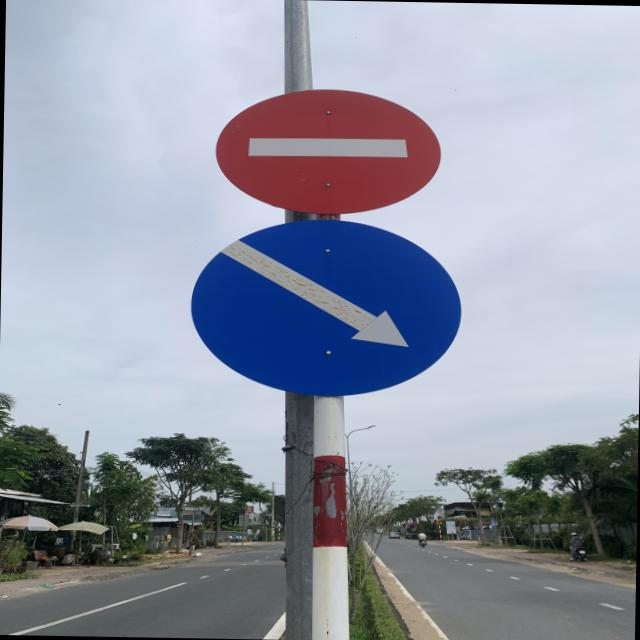Cam_Di_Nguoc_Chieu: (215, 88, 444, 218)
Chi_Huong_Di_Phai: (187, 217, 467, 402)
